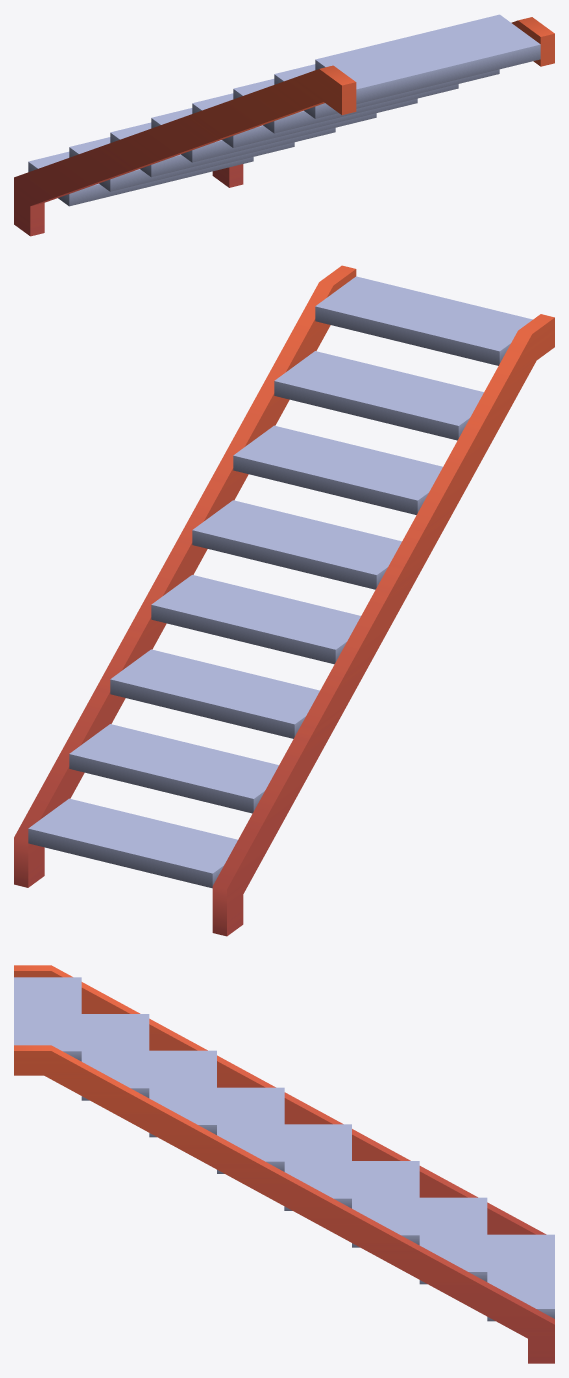
Rendered from Stairs Sides.glb.
3 views of the same model, one above another, from view 1: azimuth 30°, elevation 25°; view 2: azimuth 150°, elevation 25°; view 3: azimuth 270°, elevation 25° (orthographic). The views are drawn at different scales.
Visible parts, largest first — view 1: stairs-sides, Group, Group_1; view 2: stairs-sides, Group, Group_1; view 3: stairs-sides, Group_1, Group.
Part boxes in pixels (x1,y1,x2,y2): stairs-sides: (28,14,540,206); Group: (14,65,356,236); Group_1: (212,17,554,187); stairs-sides: (28,276,532,888); Group: (212,314,554,936); Group_1: (14,265,356,887); stairs-sides: (14,977,554,1321); Group_1: (14,1045,554,1363); Group: (14,965,546,1234).
Size of the model in its own units: 1.5 by 2.55 by 4.
1 material, 1 textured.
